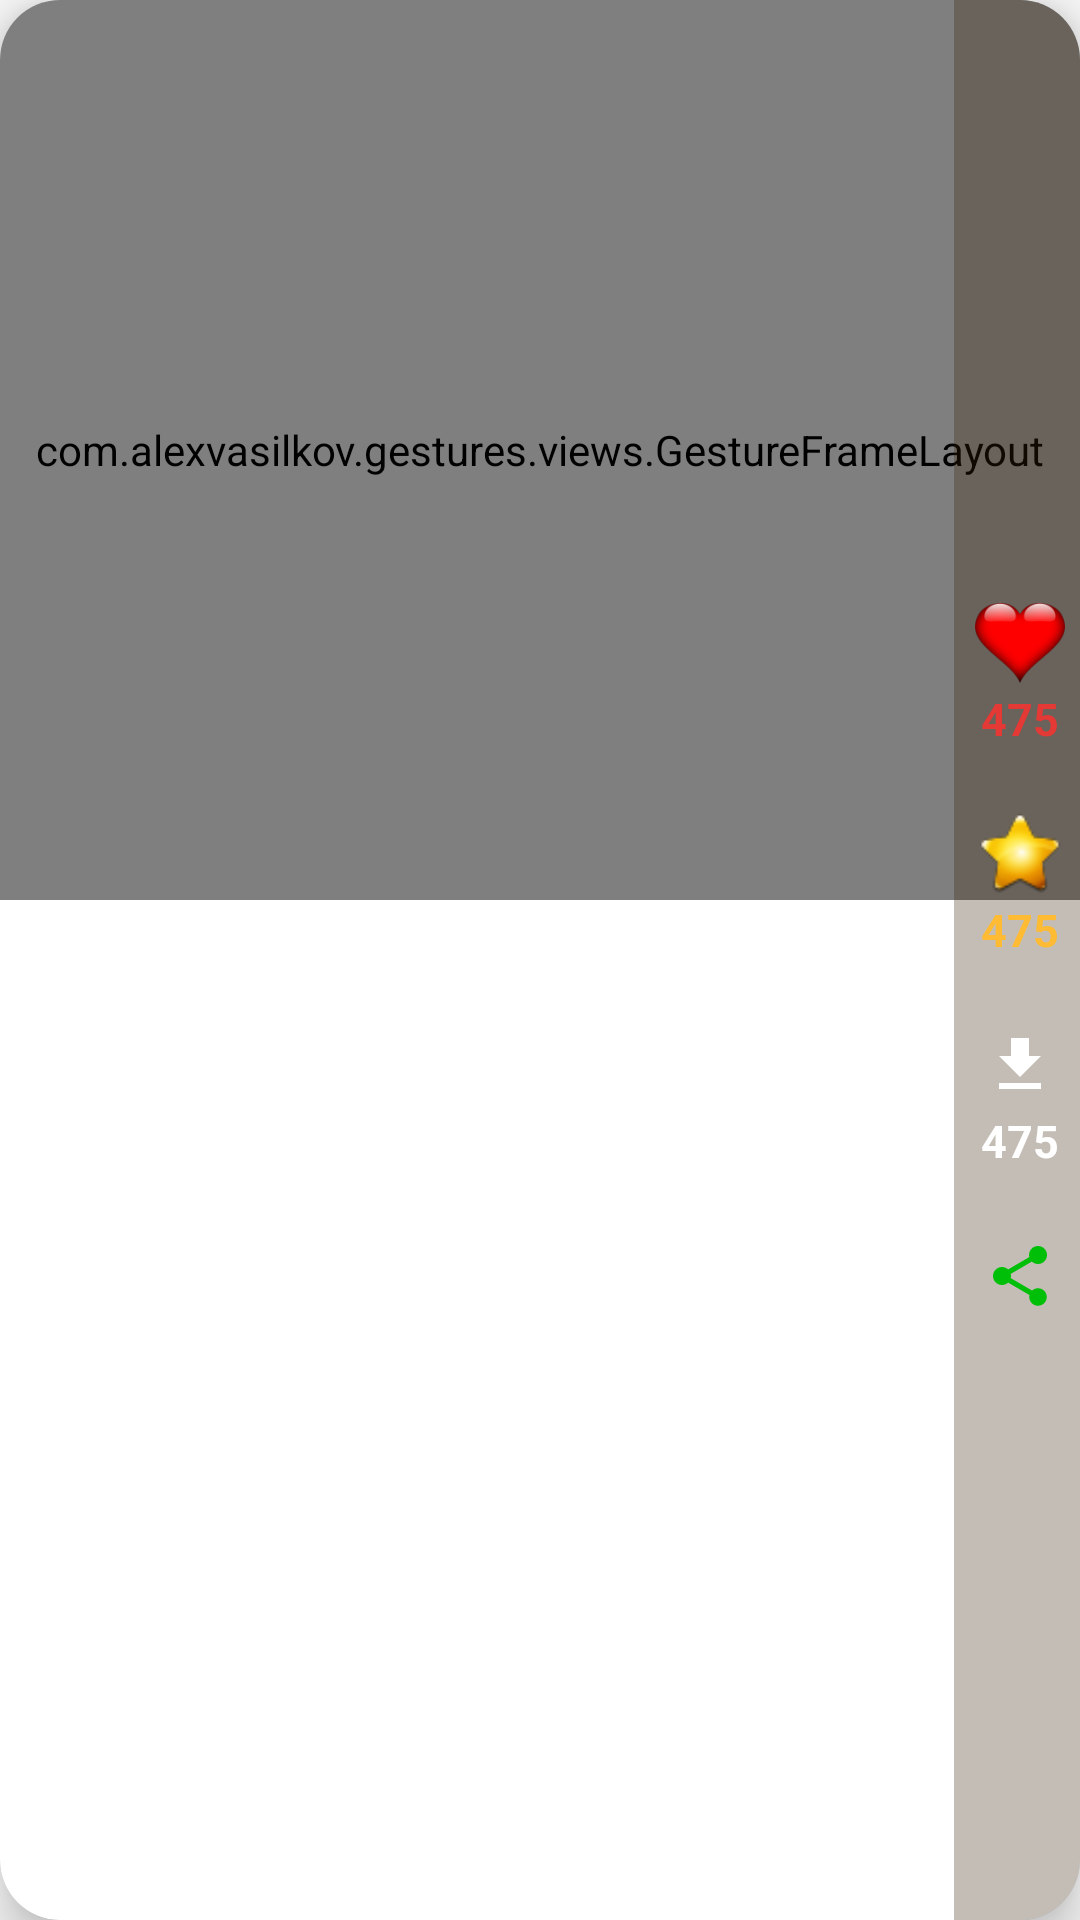

Icons on this 1080w x 1920h Android screen, each with the point to tap as (x,y):
fav: (1020,853)
file download: (1020,1063)
likefull: (1020,642)
share: (1020,1276)
